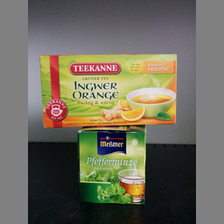tea: (39, 53, 178, 130), (76, 126, 148, 205)
